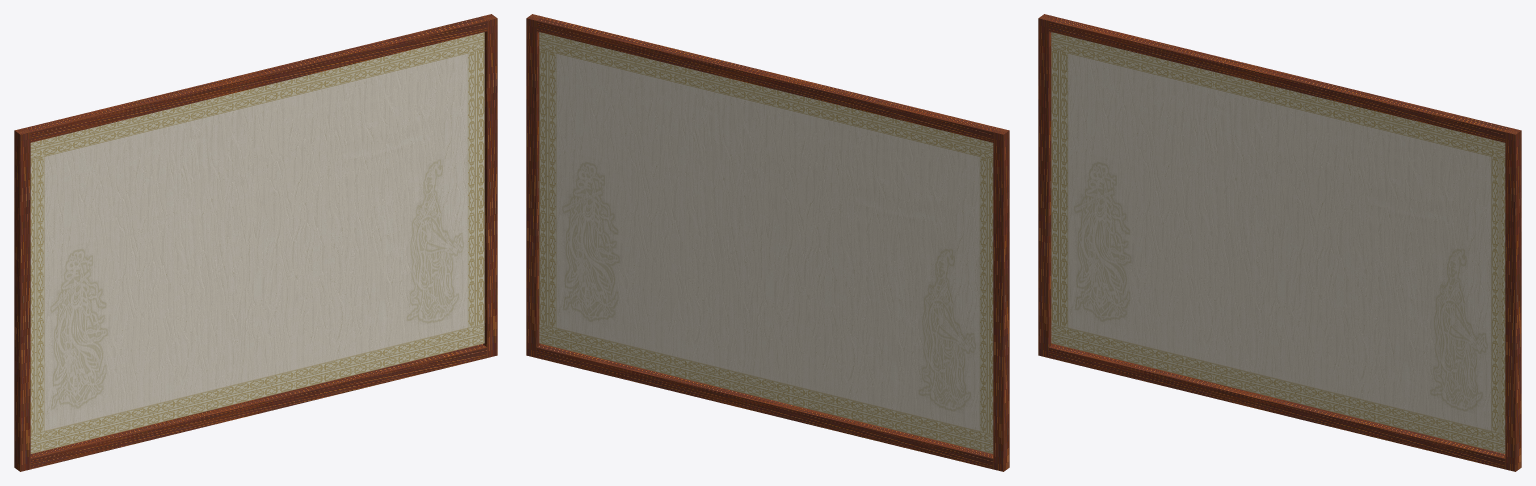
File: DisplayFrame.gltf
3 views of the same model, side by side, from view 1: azimuth 30°, elevation 25°; view 2: azimuth 150°, elevation 25°; view 3: azimuth 330°, elevation 25° (orthographic).
Parts seen in each view (by area): view 1: Box (×5); view 2: Box (×5); view 3: Box (×5).
Part boxes in pixels (<box>): Box (×5): <box>14,14,497,471</box>; Box (×5): <box>526,14,1009,471</box>; Box (×5): <box>1038,14,1521,471</box>.
Size of the model in its own units: 9.39 by 6.34 by 0.2.
Materials: 5 (5 with a texture image).
